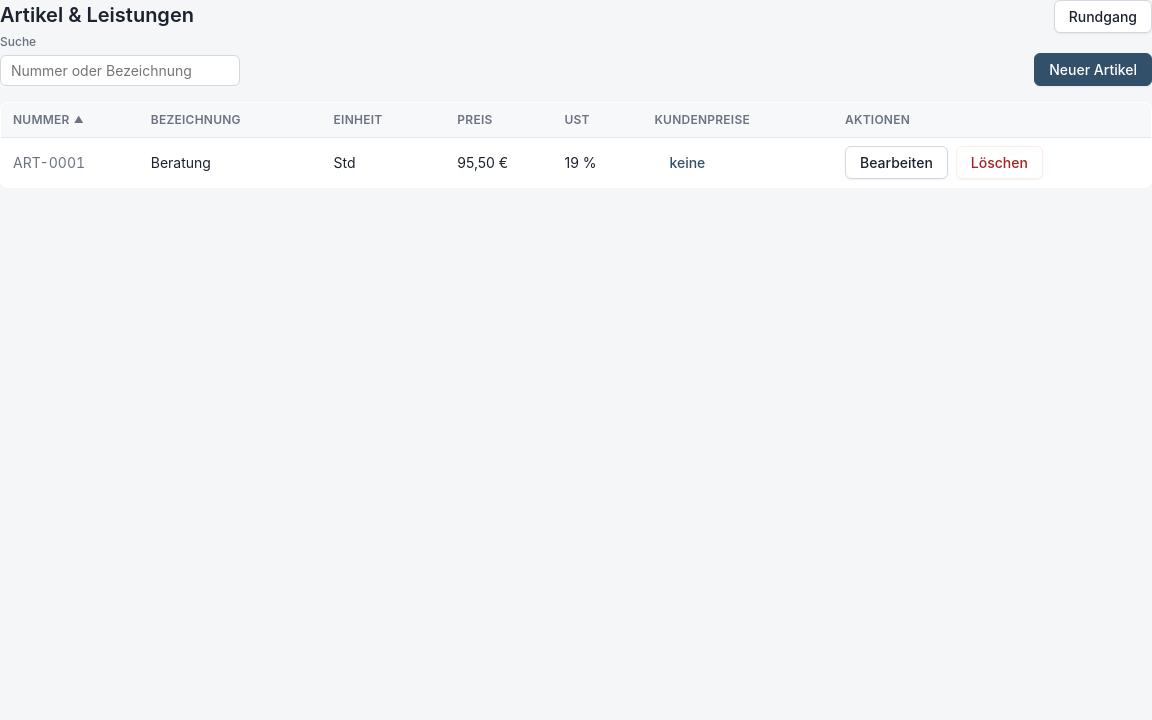
Test: Artikel › löscht einen Artikel ohne Kundenpreise nach Bestätigung
This screenshot has width=1152, height=720.
Expected: the text "Beratung" is shown, [139, 138, 322, 188]
Click the button "Löschen": (999, 162) [956, 146, 1043, 179]
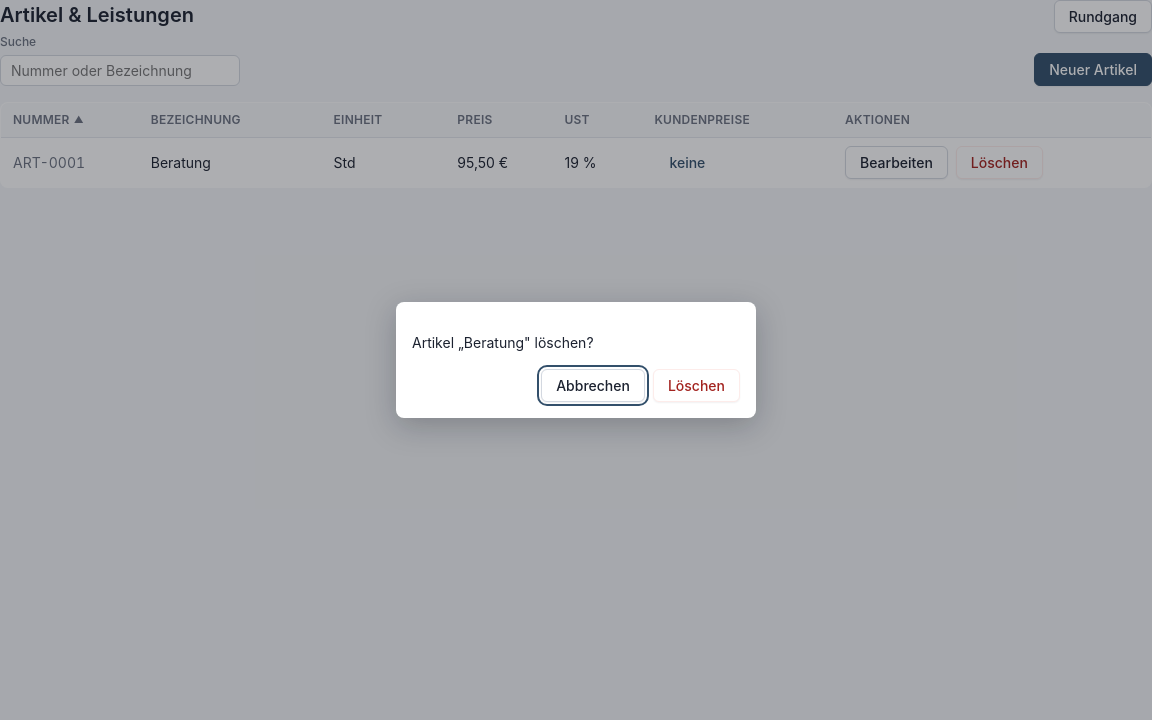
Expected: the text "Artikel „Beratung\" löschen?" is shown, [412, 334, 594, 351]
Click the button "Löschen": (696, 386) [653, 369, 740, 402]
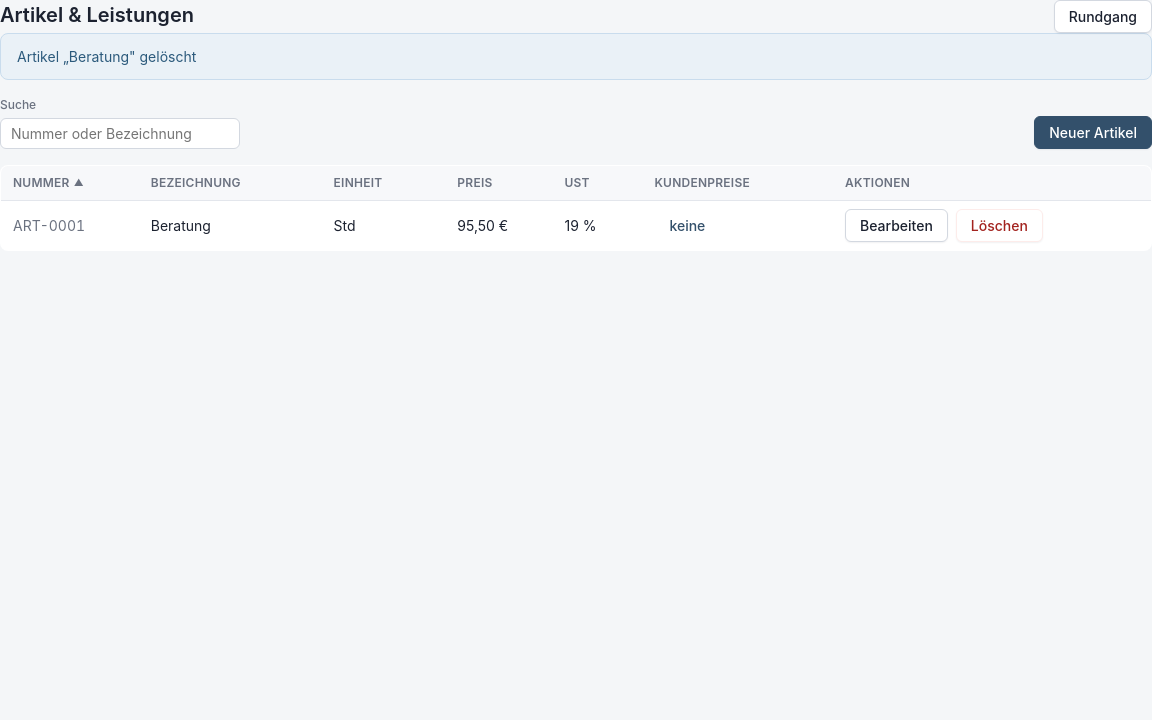
Expected: the text "Artikel „Beratung\" gelöscht" is shown, [17, 46, 196, 67]
